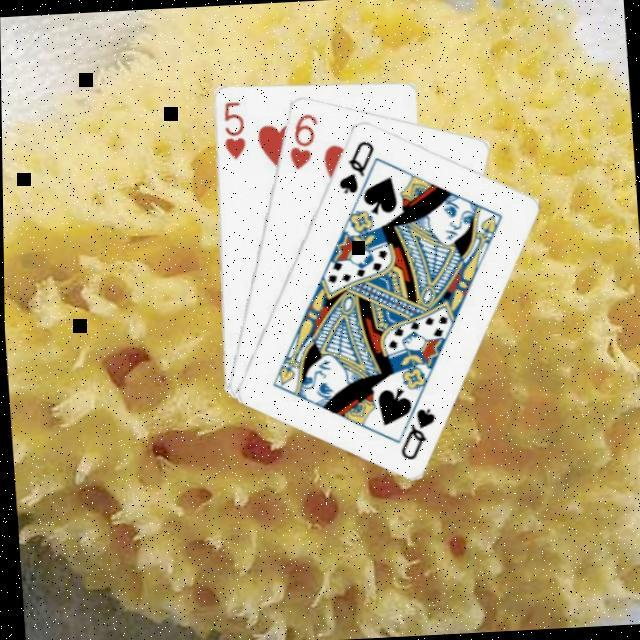5H: (220, 96, 250, 161)
6H: (284, 106, 324, 170)
QS: (334, 134, 382, 194), (394, 402, 441, 461)
